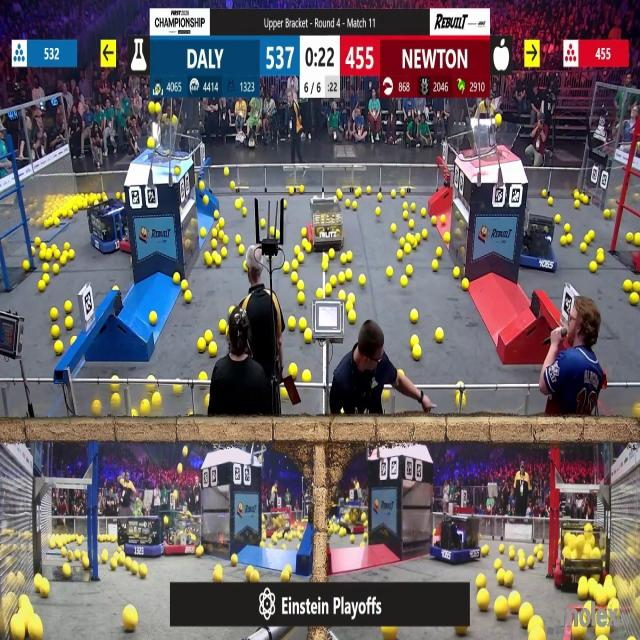ball_airborne: (382, 626, 396, 640), (149, 100, 155, 112), (148, 138, 154, 149), (496, 114, 502, 125), (177, 464, 183, 474), (154, 104, 160, 114), (172, 114, 178, 124), (172, 490, 178, 500), (163, 113, 168, 122), (186, 446, 191, 454)
ball_ground: (125, 608, 138, 633), (494, 599, 508, 620), (520, 604, 532, 626), (478, 591, 490, 612), (510, 594, 521, 612), (110, 393, 120, 409), (572, 626, 584, 639), (247, 568, 258, 582), (503, 570, 512, 586), (93, 402, 102, 418), (40, 583, 49, 599), (457, 624, 467, 637), (208, 343, 217, 357), (63, 564, 72, 578), (56, 341, 64, 356), (214, 566, 222, 581), (288, 363, 297, 376), (141, 402, 149, 416), (303, 371, 312, 383), (435, 327, 442, 342), (478, 574, 486, 587), (49, 309, 58, 320), (149, 312, 156, 326), (219, 320, 226, 334), (497, 570, 504, 584), (298, 318, 306, 330), (630, 292, 638, 304), (288, 318, 296, 330), (198, 340, 206, 352), (305, 332, 313, 344), (414, 347, 422, 359), (282, 569, 290, 581), (348, 312, 356, 324), (174, 384, 182, 396), (412, 310, 419, 323), (66, 317, 73, 330), (51, 325, 58, 338), (140, 564, 147, 577), (280, 387, 287, 400), (383, 388, 390, 401), (127, 559, 134, 572), (65, 303, 73, 314), (624, 281, 632, 292), (290, 273, 298, 284), (482, 544, 490, 555), (132, 564, 140, 575), (297, 291, 304, 303), (184, 290, 191, 302), (324, 284, 331, 296), (407, 266, 414, 278), (205, 254, 212, 266), (527, 556, 534, 568), (627, 234, 635, 244), (590, 264, 598, 274), (316, 288, 324, 298), (180, 280, 188, 290), (412, 337, 419, 348), (400, 276, 407, 287), (24, 262, 31, 273), (38, 281, 45, 292), (195, 548, 202, 559), (597, 252, 604, 263), (110, 559, 117, 570), (339, 274, 346, 285), (82, 558, 88, 570), (454, 268, 460, 280), (520, 558, 526, 570), (102, 552, 108, 564), (42, 264, 49, 274), (214, 255, 221, 265), (421, 231, 428, 241), (341, 253, 348, 263), (339, 290, 346, 300), (51, 265, 58, 275), (69, 250, 76, 260), (406, 243, 413, 253), (220, 248, 227, 258), (205, 330, 212, 340), (507, 550, 514, 560), (348, 292, 355, 302), (407, 234, 414, 244), (445, 233, 451, 244), (284, 264, 290, 275), (462, 279, 468, 290), (359, 275, 365, 286), (387, 267, 393, 278), (232, 555, 238, 566), (435, 247, 441, 258), (328, 249, 334, 260), (174, 273, 180, 284), (634, 281, 640, 292), (200, 373, 208, 381), (44, 251, 51, 260), (432, 262, 438, 272), (347, 271, 353, 281), (239, 246, 245, 256), (297, 281, 303, 291), (390, 222, 396, 232), (291, 262, 297, 272), (347, 251, 353, 261), (604, 209, 610, 219), (212, 240, 218, 250), (494, 560, 500, 570), (402, 210, 408, 220), (579, 244, 585, 254), (201, 229, 207, 239), (42, 274, 48, 284), (564, 222, 570, 232), (398, 238, 404, 248), (306, 243, 312, 253), (396, 250, 402, 260), (39, 250, 45, 260), (634, 236, 640, 246), (270, 225, 276, 235), (61, 256, 68, 264), (302, 230, 309, 238), (111, 376, 118, 384), (322, 263, 328, 272), (556, 214, 562, 223), (212, 230, 218, 239), (218, 218, 224, 227), (276, 231, 282, 240), (566, 236, 572, 245), (236, 201, 242, 210), (76, 551, 82, 560), (259, 218, 265, 227), (346, 303, 352, 312), (204, 197, 210, 206), (329, 276, 335, 285), (355, 188, 361, 197), (218, 231, 224, 240), (293, 247, 299, 256), (537, 553, 543, 562), (222, 236, 228, 245), (297, 253, 303, 262), (322, 252, 328, 261), (61, 549, 67, 558), (237, 236, 242, 246), (561, 236, 566, 246), (200, 180, 205, 190), (363, 520, 368, 530), (586, 236, 592, 244), (338, 190, 344, 198), (399, 188, 405, 196), (288, 187, 294, 195), (540, 188, 546, 196), (273, 536, 279, 544), (499, 543, 504, 552), (421, 208, 426, 217), (416, 233, 421, 242), (574, 201, 579, 210), (223, 168, 228, 177), (412, 204, 417, 213), (56, 250, 61, 259), (35, 238, 40, 247), (68, 209, 73, 218), (584, 197, 589, 206), (132, 411, 138, 418), (350, 535, 356, 542), (70, 338, 76, 345), (113, 553, 119, 560), (547, 199, 552, 207), (431, 216, 436, 224), (378, 192, 383, 200), (352, 203, 357, 211), (402, 203, 407, 211), (229, 184, 234, 192), (410, 220, 415, 228), (346, 201, 351, 209), (366, 186, 371, 194), (56, 218, 61, 226), (149, 374, 154, 382), (118, 544, 123, 552), (165, 518, 170, 526), (442, 215, 446, 224), (32, 247, 36, 256), (65, 243, 70, 250), (391, 190, 396, 197), (259, 540, 264, 547), (214, 212, 219, 219), (363, 533, 368, 540), (228, 305, 233, 312), (341, 410, 346, 417), (377, 208, 381, 216), (243, 208, 247, 216), (299, 185, 303, 193), (244, 264, 248, 272), (283, 202, 287, 209), (188, 412, 192, 418), (361, 541, 364, 547), (283, 543, 286, 549)
goal: (466, 121, 521, 160), (129, 127, 188, 159)
robot_blue: (431, 514, 481, 564), (517, 215, 556, 272), (88, 197, 127, 254), (120, 517, 164, 558), (340, 504, 369, 532)
robot_red: (550, 518, 606, 590), (310, 198, 345, 252), (163, 513, 201, 555), (265, 513, 292, 540)
